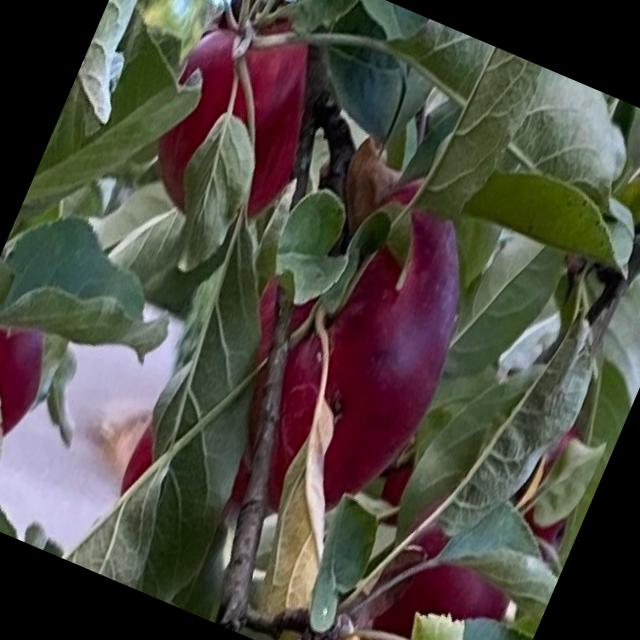Apples: (186, 141, 508, 549), (131, 0, 348, 248), (344, 501, 532, 639), (0, 304, 63, 440)
